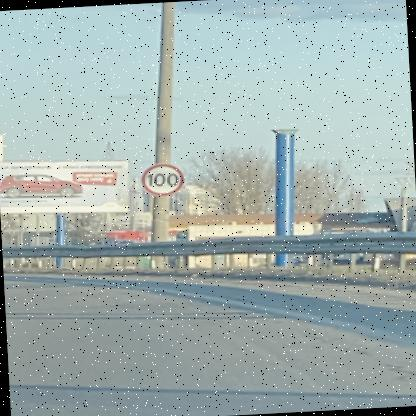speedlimit: (136, 160, 186, 194)
